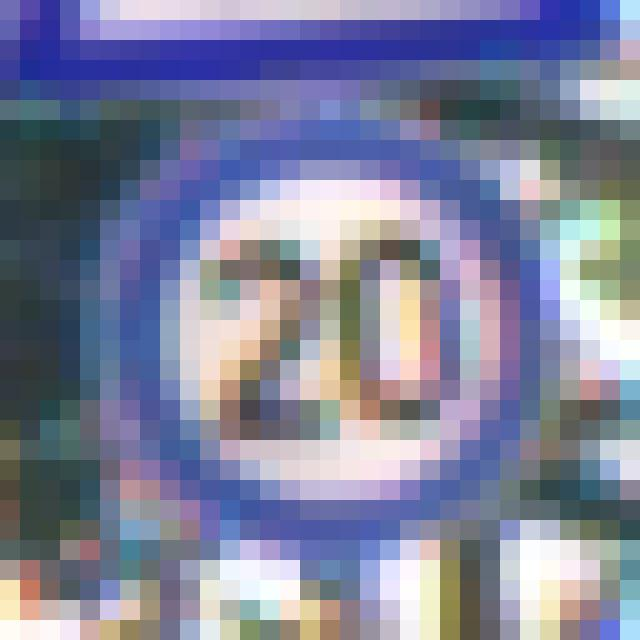SPEED LIMIT 20: (99, 136, 561, 542)
